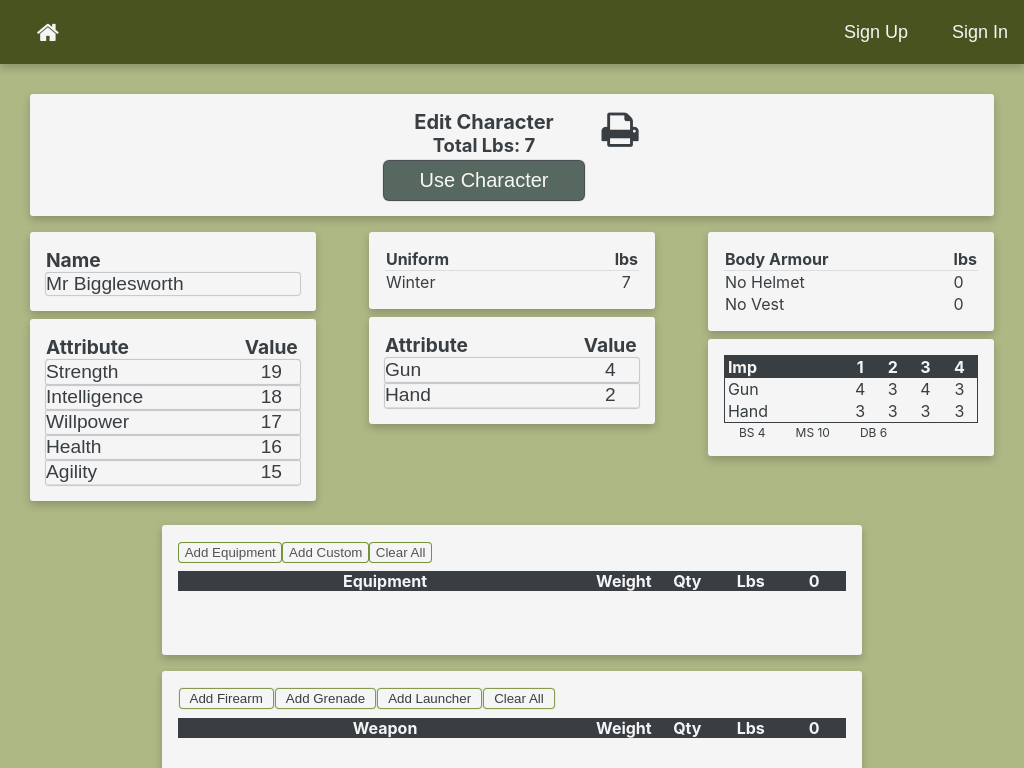
Test: Create Character › should add helmet
Click the text "No Helmet" at point(765, 282), box [724,271,953,294]
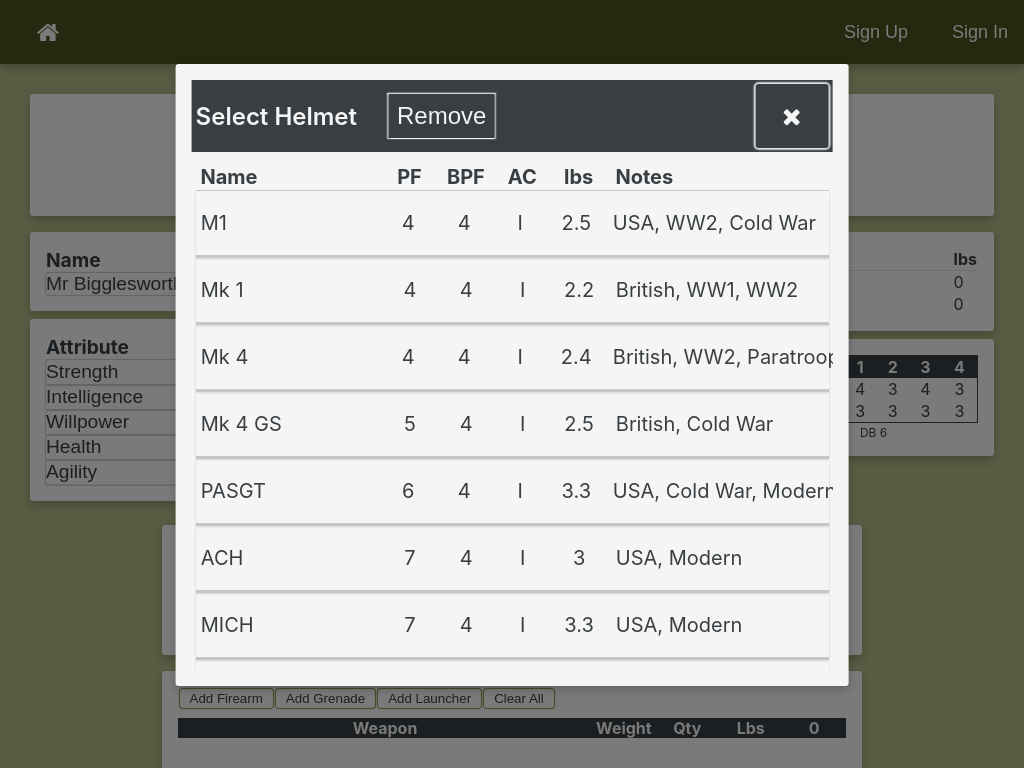
Click the text "M1" at point(214, 223), box [196,210,388,236]
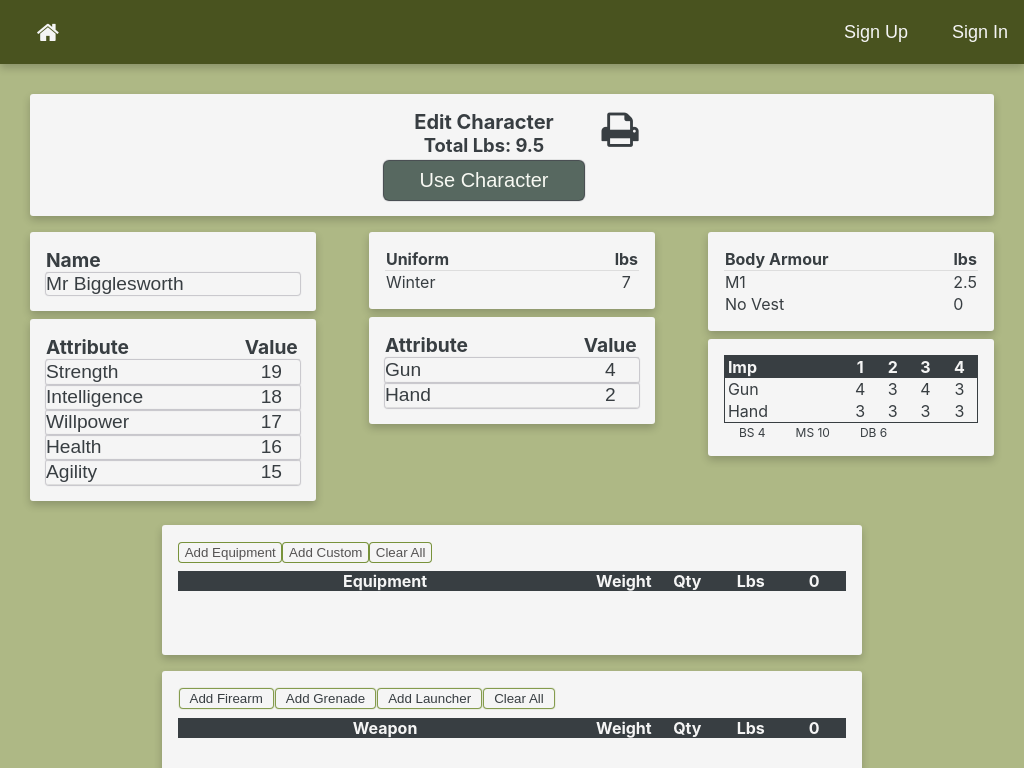
Now the text "M1" is shown, box [724,270,952,293]
